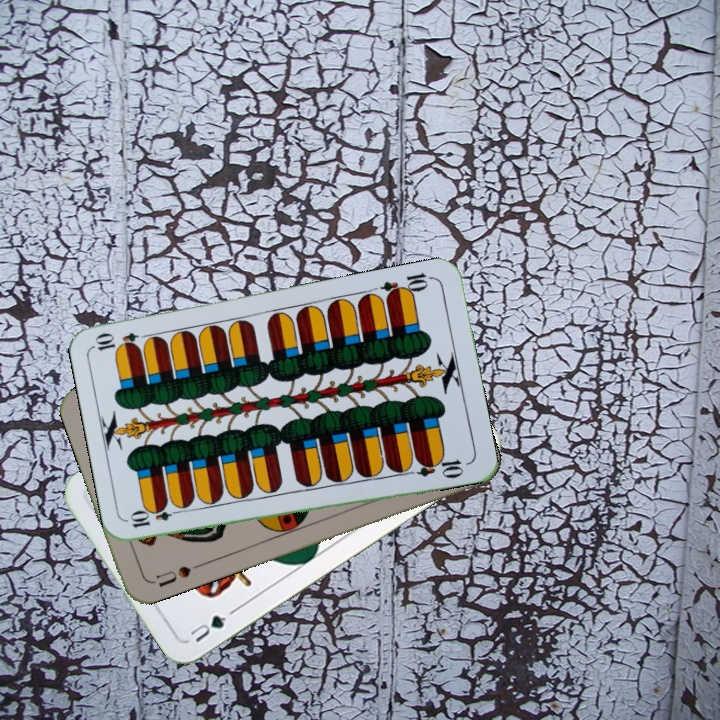E10: (377, 269, 436, 302), (126, 503, 185, 531)
GU: (183, 611, 229, 645)
SU: (152, 559, 204, 590)
